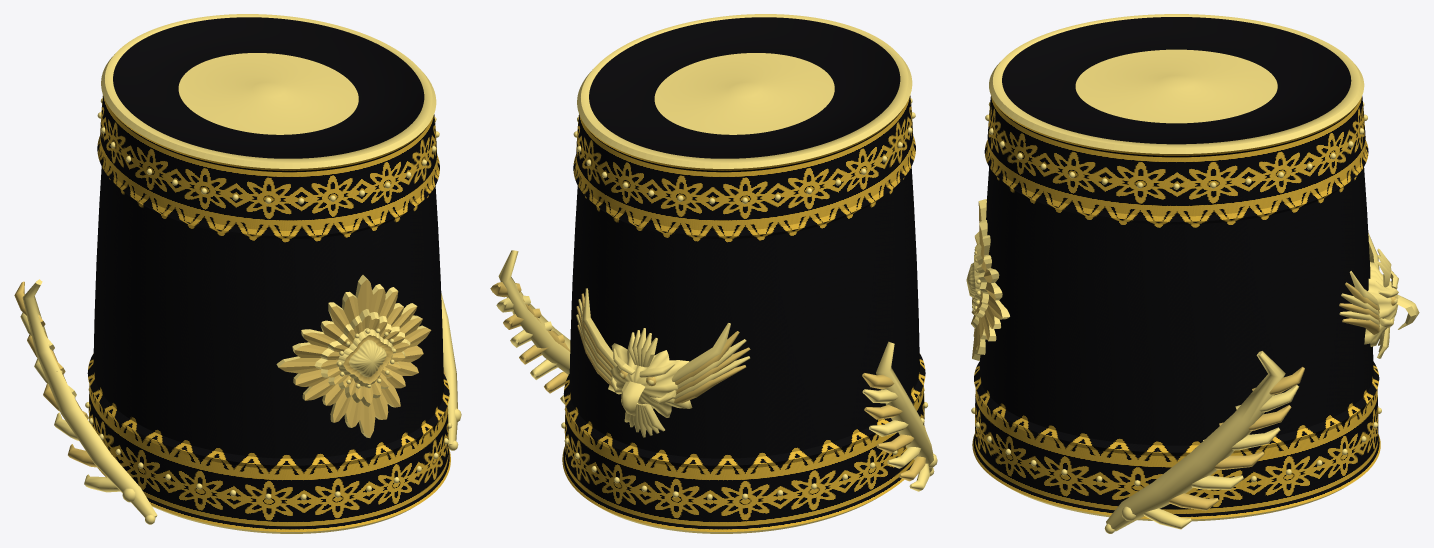
The model's file is 02_Jawa_Kuluk_Kanigaran.fbx.
3 views of the same model, side by side, from view 1: azimuth 30°, elevation 25°; view 2: azimuth 150°, elevation 25°; view 3: azimuth 270°, elevation 25° (orthographic).
Visible parts, largest first — view 1: Kuluk_Kanigaran; view 2: Kuluk_Kanigaran; view 3: Kuluk_Kanigaran.
Boxes of the visible parts, x1,y1,x2,y2 form: Kuluk_Kanigaran: [14, 14, 461, 533]; Kuluk_Kanigaran: [490, 14, 937, 533]; Kuluk_Kanigaran: [966, 14, 1419, 533].
Bounding box in the file's own units: 1.83 × 1.66 × 1.81.
